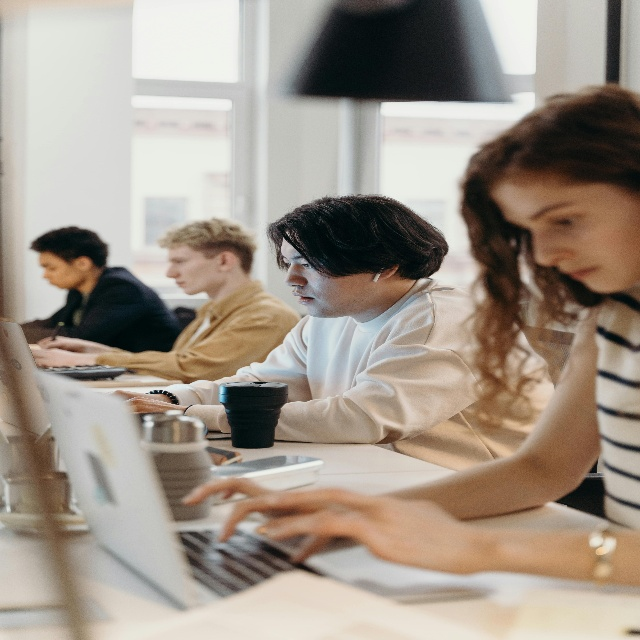Sin_guantes: (181, 477, 463, 574), (39, 332, 94, 356), (33, 346, 89, 369), (121, 396, 176, 417)
